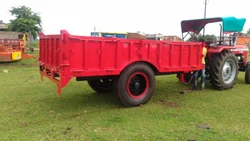wheel: (124, 68, 156, 105), (215, 55, 237, 90)
